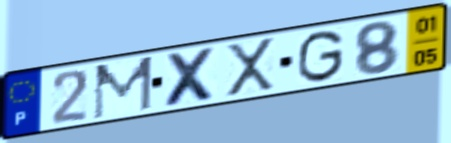2: (49, 68, 91, 127)
8: (351, 19, 403, 78)
G: (295, 28, 347, 85)
M: (91, 53, 156, 122)
X: (162, 45, 220, 110), (224, 35, 278, 100)
